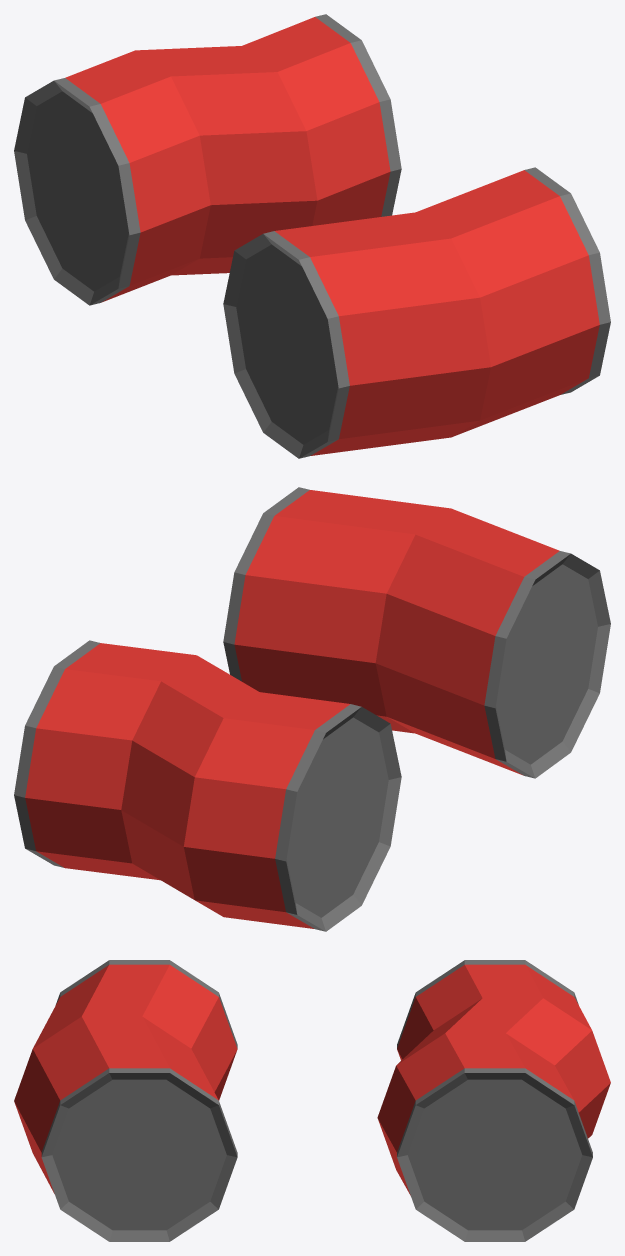
File: Lata.fbx
3 renders of one model, top to bottom at view 1: azimuth 30°, elevation 25°; view 2: azimuth 150°, elevation 25°; view 3: azimuth 270°, elevation 25°, orthographic. The views are drawn at different scales.
Parts seen in each view (by area): view 1: Cylinder; view 2: Cylinder; view 3: Cylinder.
Boxes of the visible parts, box(x1,y1,x2,y2) form: Cylinder: box(14, 14, 610, 458); Cylinder: box(14, 487, 610, 931); Cylinder: box(14, 960, 610, 1241).
Size of the model in its own units: 27.23 by 19.02 by 60.9.
